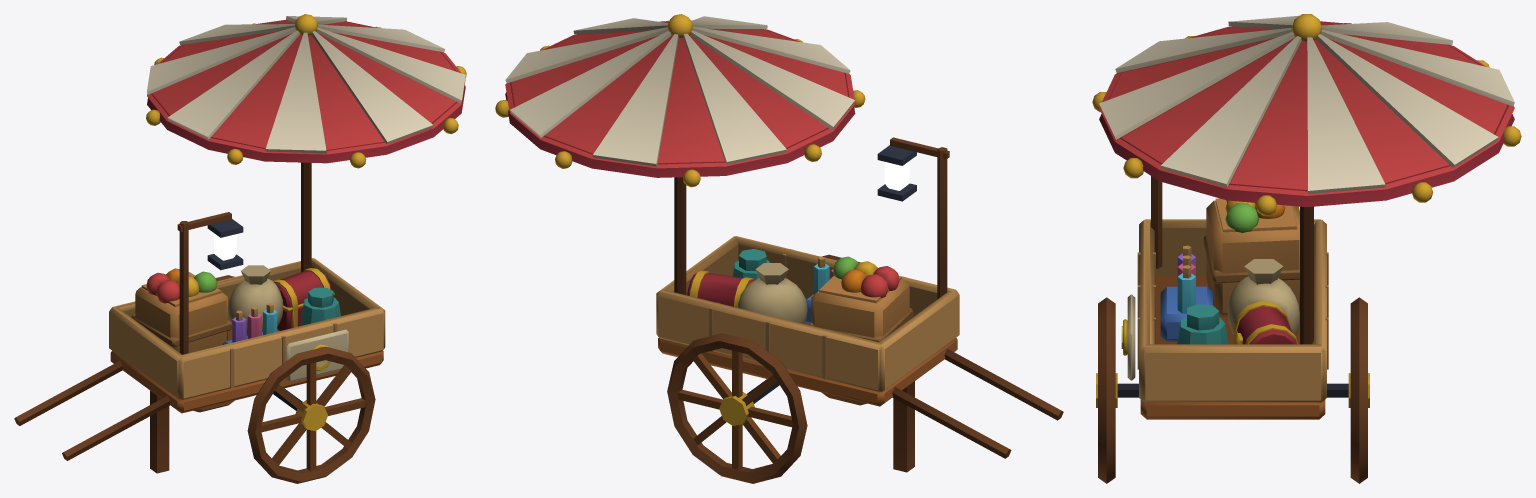
The model's file is o_trader.glb.
The picture shows the model from 3 angles, left to right: view 1: azimuth 30°, elevation 25°; view 2: azimuth 150°, elevation 25°; view 3: azimuth 270°, elevation 25°; orthographic projection. The views are drawn at different scales.
Parts seen in each view (by area): view 1: body, lamp_glow; view 2: body, lamp_glow; view 3: body.
Part boxes in pixels (<box>): body: <box>14,14,466,483</box>; lamp_glow: <box>214,233,236,260</box>; body: <box>495,14,1063,483</box>; lamp_glow: <box>884,161,909,190</box>; body: <box>1092,14,1521,483</box>.
Bounding box in the file's own units: 4.25 × 3.62 × 2.79.
